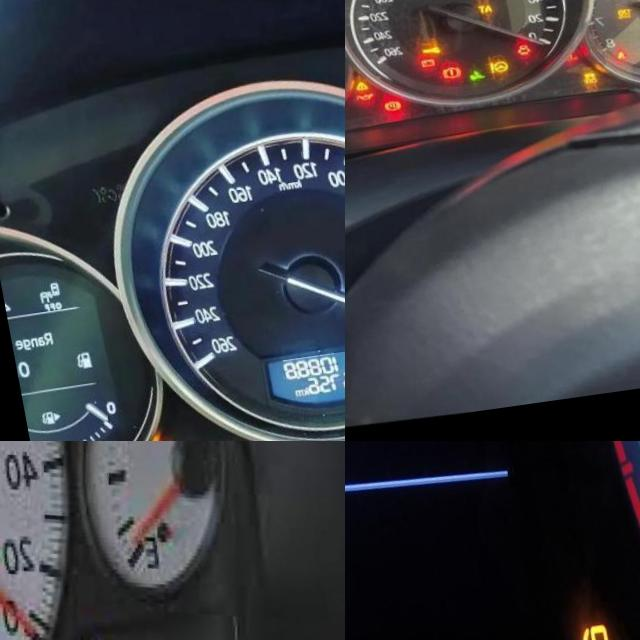Electronic Power Steering: (478, 70, 499, 86)
High Engine Coolant Temperature: (554, 66, 567, 75)
Seat Belt: (604, 65, 615, 76)
